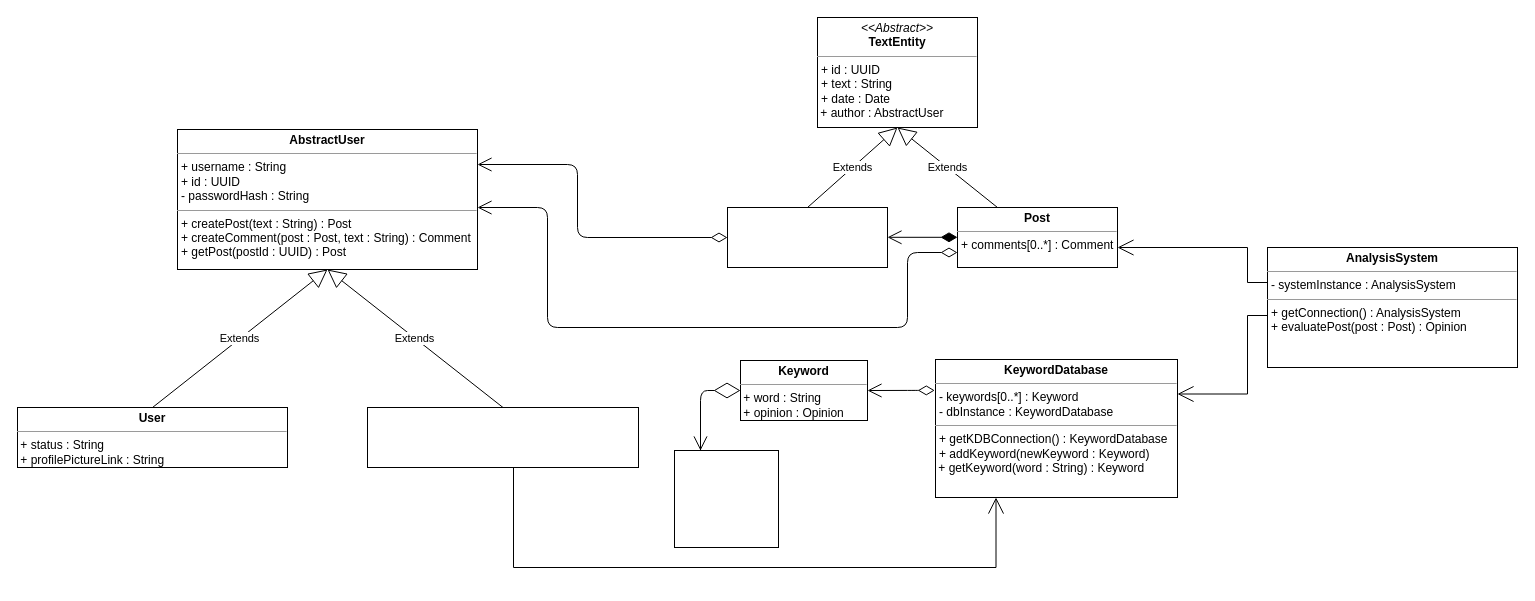
Some shapes in this 1535 by 601 pixel diagram are drawn without their labels. Here are the shapes that lost their labels. From the top down, the centre of each, then its label:
the point at 807,237: Comment + likes : Integer
the point at 502,437: Admin + addKeywordWrapper(newKeyword : Keyword)
the point at 726,499: <<Enumeration>> Opinion Worst Bad Good
